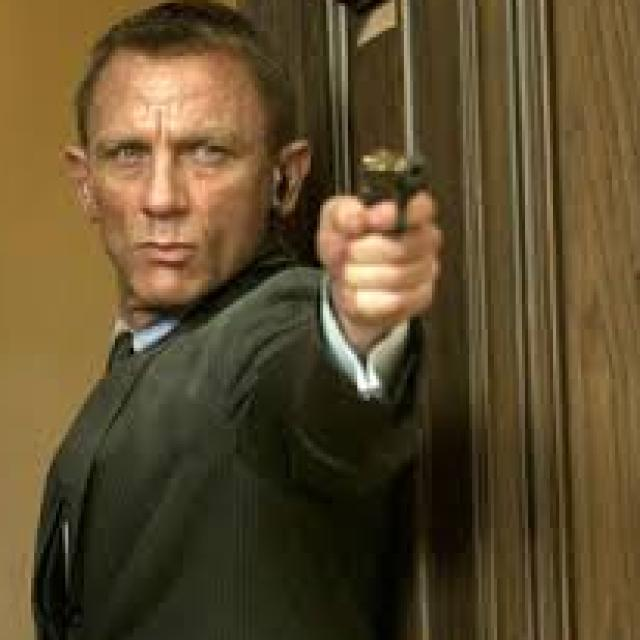gun: (300, 136, 454, 288)
